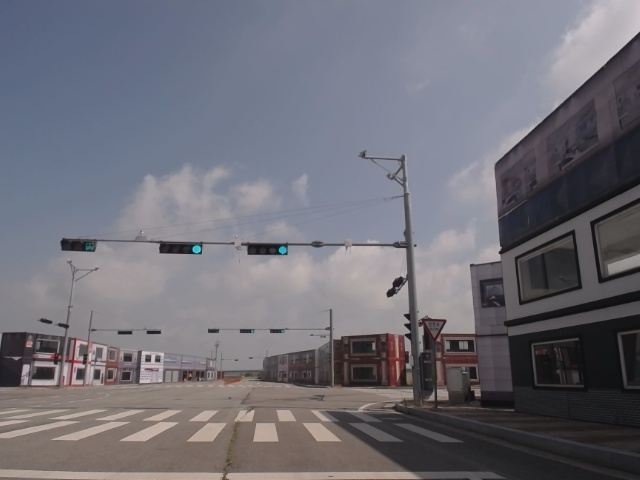straight_green_4: (248, 244, 288, 255), (160, 243, 202, 253)
